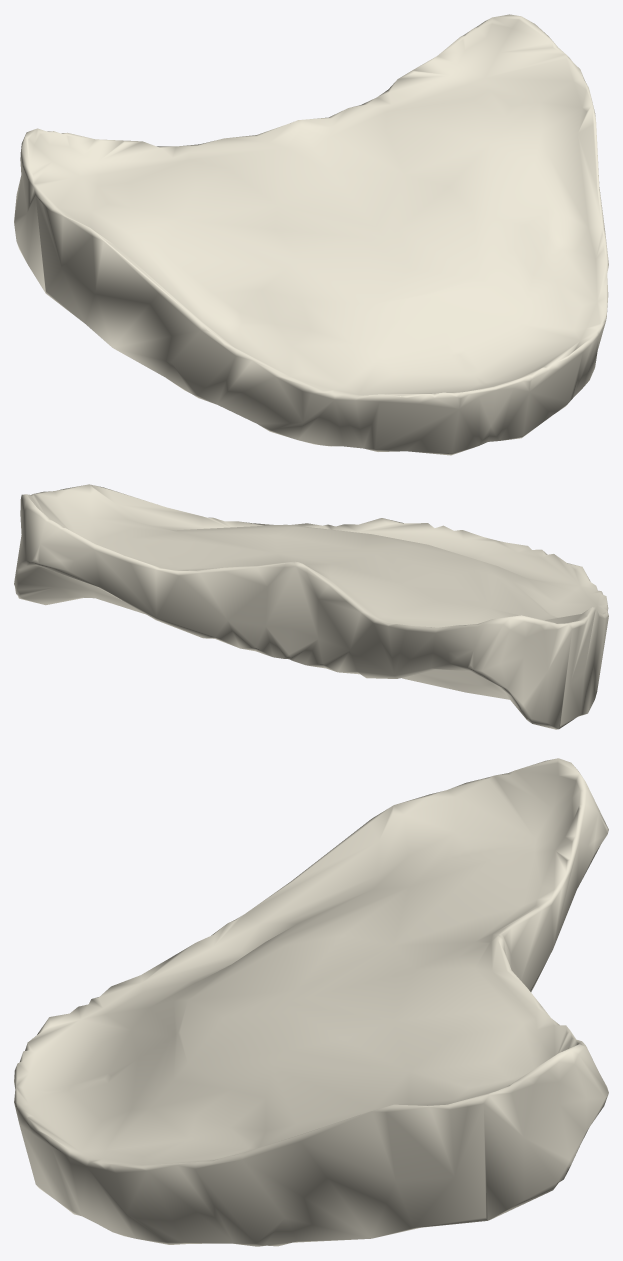
The picture shows the model from 3 angles, top to bottom: view 1: azimuth 30°, elevation 25°; view 2: azimuth 150°, elevation 25°; view 3: azimuth 270°, elevation 25°; orthographic projection. The views are drawn at different scales.
Visible parts, largest first — view 1: ZA_6a4d43d0a8fd63db; view 2: ZA_6a4d43d0a8fd63db; view 3: ZA_6a4d43d0a8fd63db.
Part boxes in pixels (x1,y1,x2,y2): ZA_6a4d43d0a8fd63db: (14,14,608,455); ZA_6a4d43d0a8fd63db: (14,484,608,729); ZA_6a4d43d0a8fd63db: (14,758,608,1246).
Bounding box in the file's own units: 0.0333 × 0.0127 × 0.0261.
